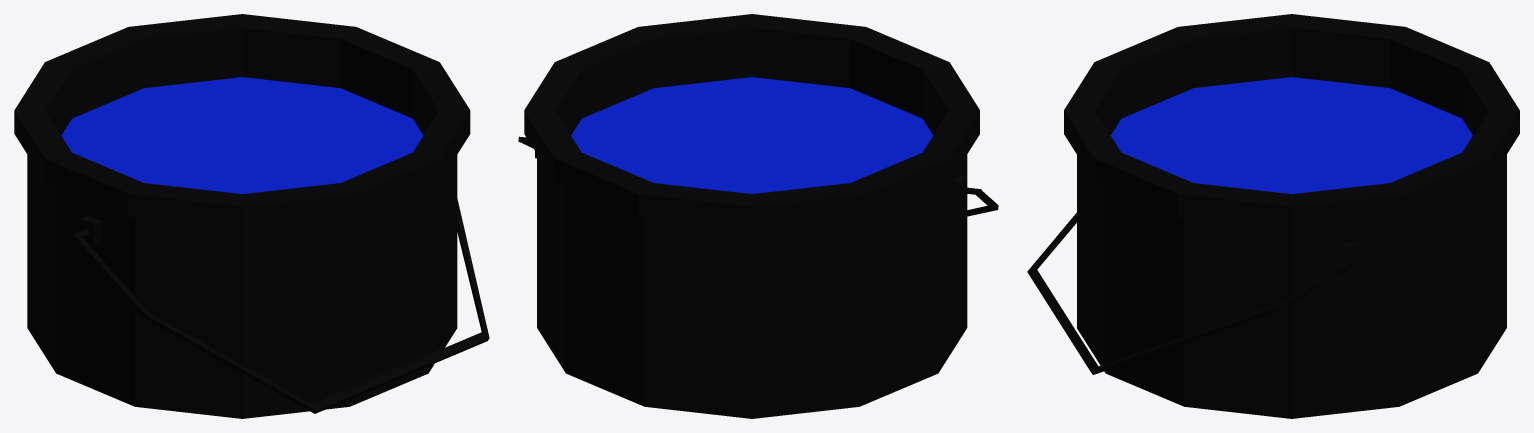
The model's file is color_bucket.fbx.
3 renders of one model, left to right at view 1: azimuth 30°, elevation 25°; view 2: azimuth 150°, elevation 25°; view 3: azimuth 270°, elevation 25°, orthographic.
Visible parts, largest first — view 1: pCylinder1; view 2: pCylinder1; view 3: pCylinder1.
Part boxes in pixels (x1=…): pCylinder1: x1=14, y1=14, x2=489, y2=418; pCylinder1: x1=518, y1=14, x2=998, y2=418; pCylinder1: x1=1027, y1=14, x2=1519, y2=418.
Bounding box in the file's own units: 64.55 × 33.53 × 68.74.
